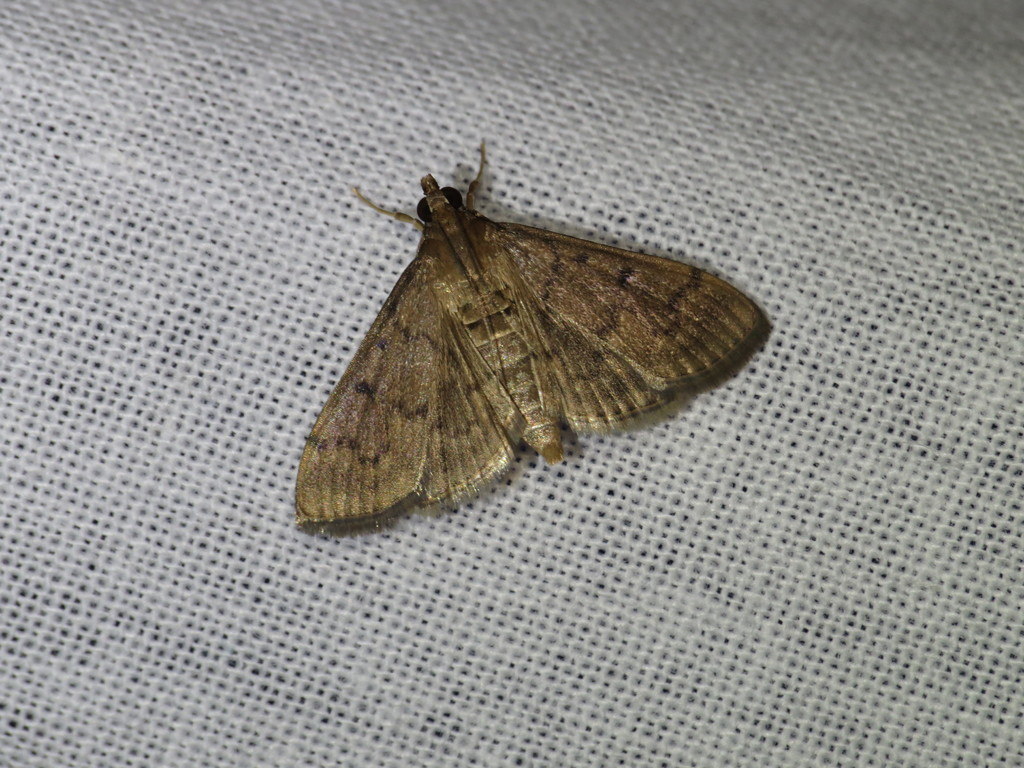Butterfly: (273, 148, 763, 539)
